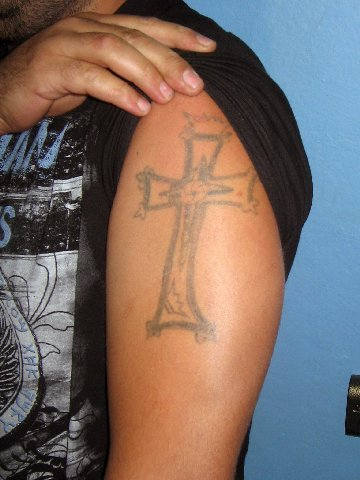tatu9_krest: (142, 124, 246, 359)
